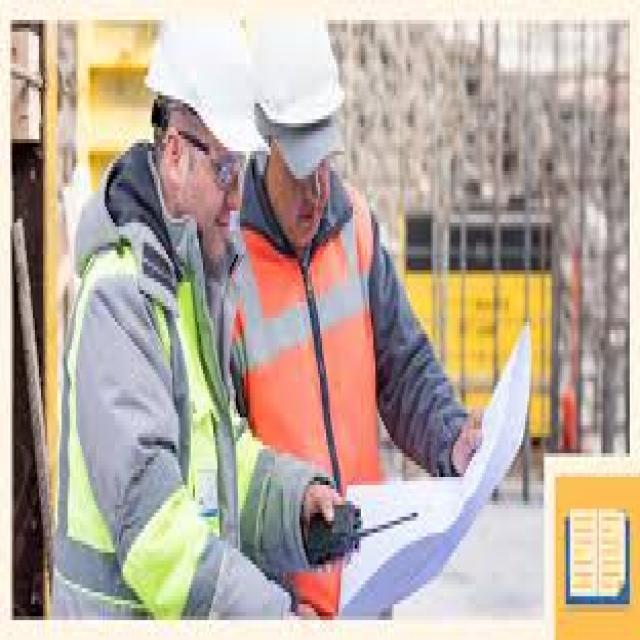reflective_jacket: (43, 194, 221, 620), (227, 178, 391, 600)
safety_helmet: (139, 7, 262, 167), (250, 4, 348, 139)
